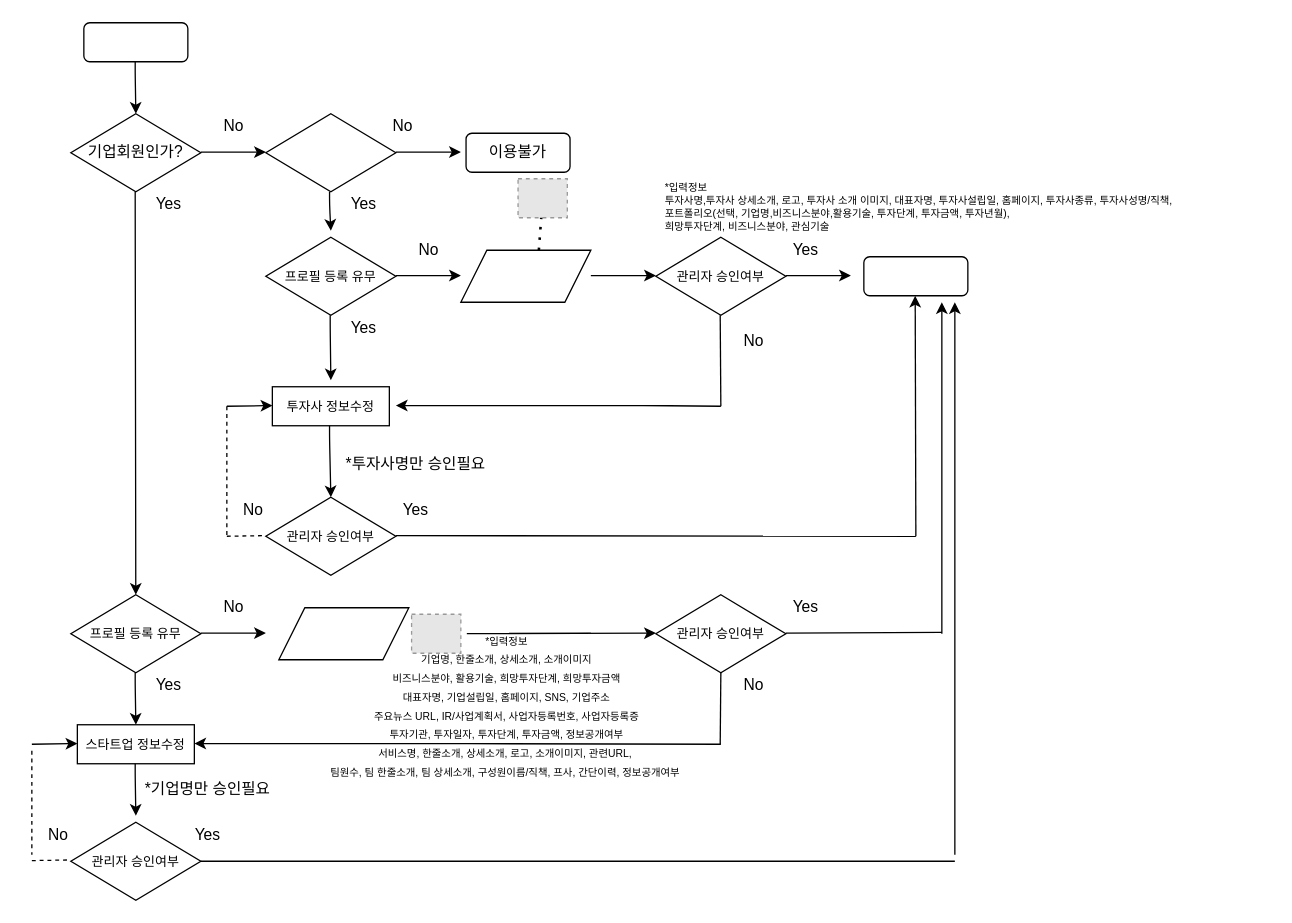
The diagram is 1292 pixels wide and 923 high, and some of its shapes have lost their labels. Grey dashed boxes stand in for pictures. Here are the shapes that lost their labels. From the top down, the centre of each, then its label:
[135,41]: 로그인
[330,152]: 투자사회원여부
[525,275]: 투자사 정보입력
[915,275]: 종료
[343,633]: 스타트업 정보입력
